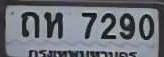0: (138, 13, 153, 39)
2: (100, 12, 115, 38)
7: (81, 12, 96, 38)
9: (119, 12, 134, 39)
A22: (20, 11, 39, 37)
A41: (43, 11, 62, 37)
